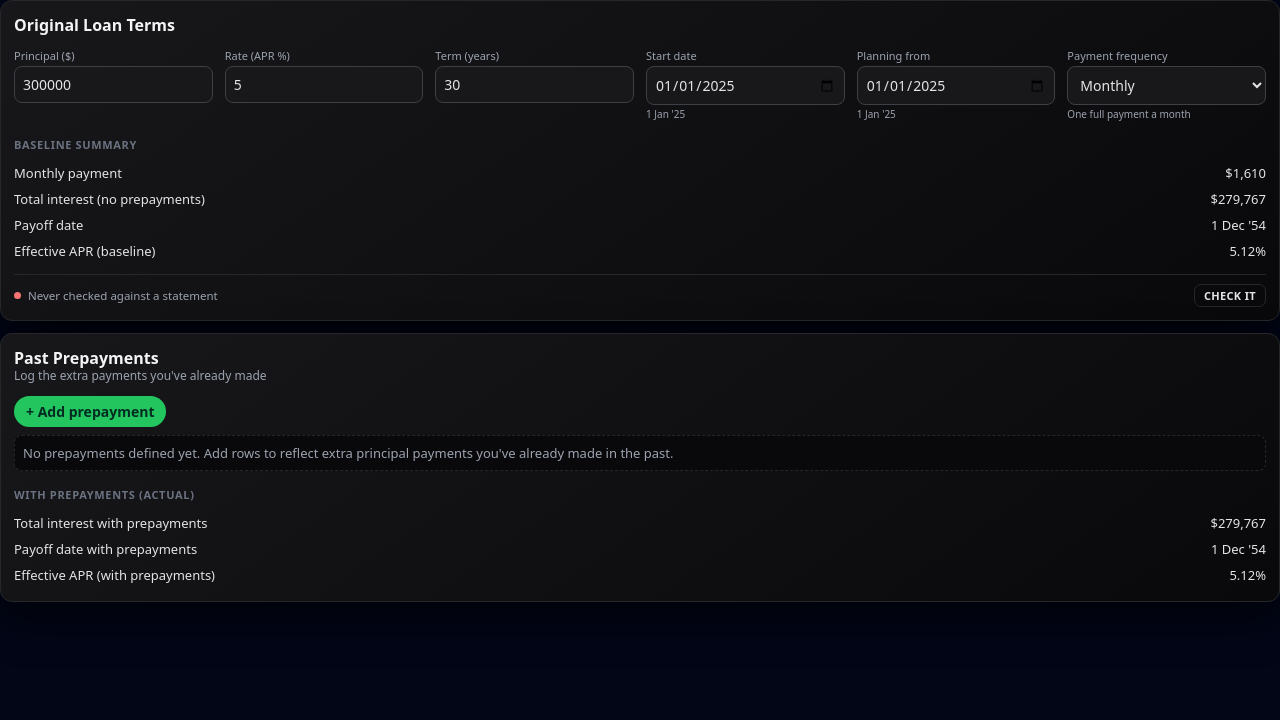
MortgageTab › visual cohesion of the prepayment controls › keeps the note field collapsed behind an Add note affordance
The width and height of the screenshot is (1280, 720).
Click the button "+ Add prepayment" at point(90, 412), box [14, 396, 166, 427]
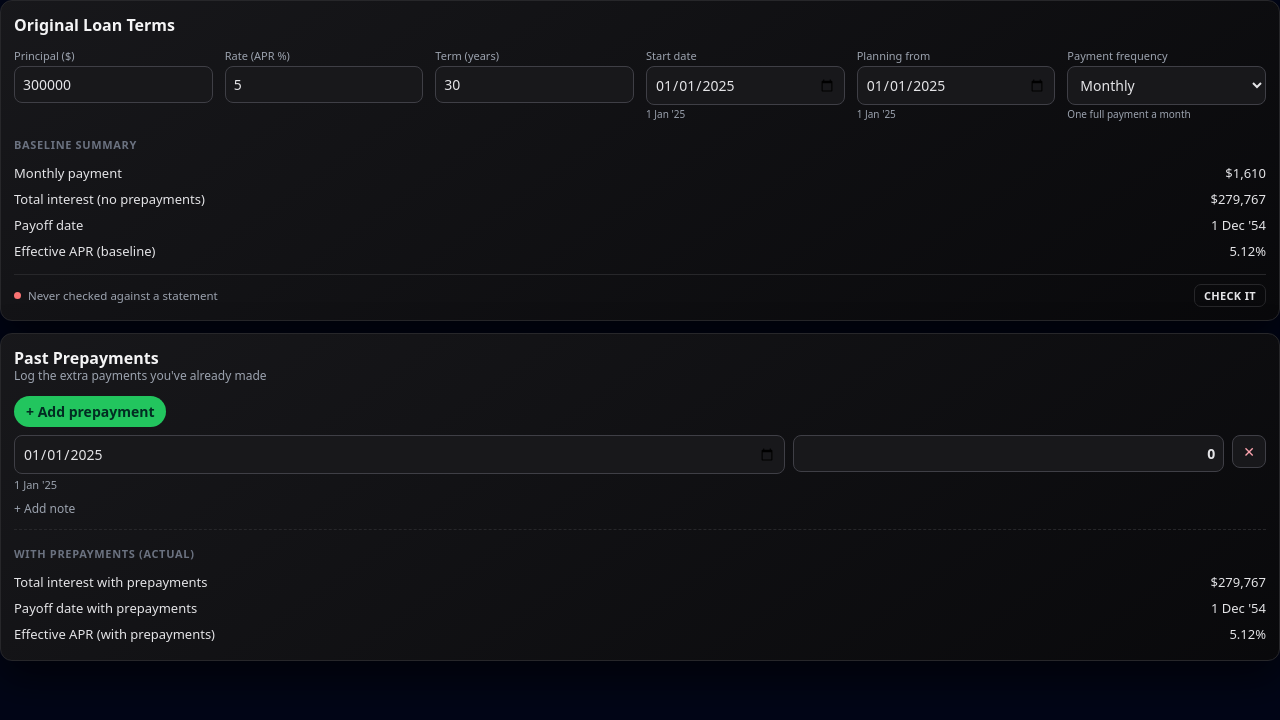
Click the button "+ Add note" at point(45, 508), box [14, 498, 75, 519]
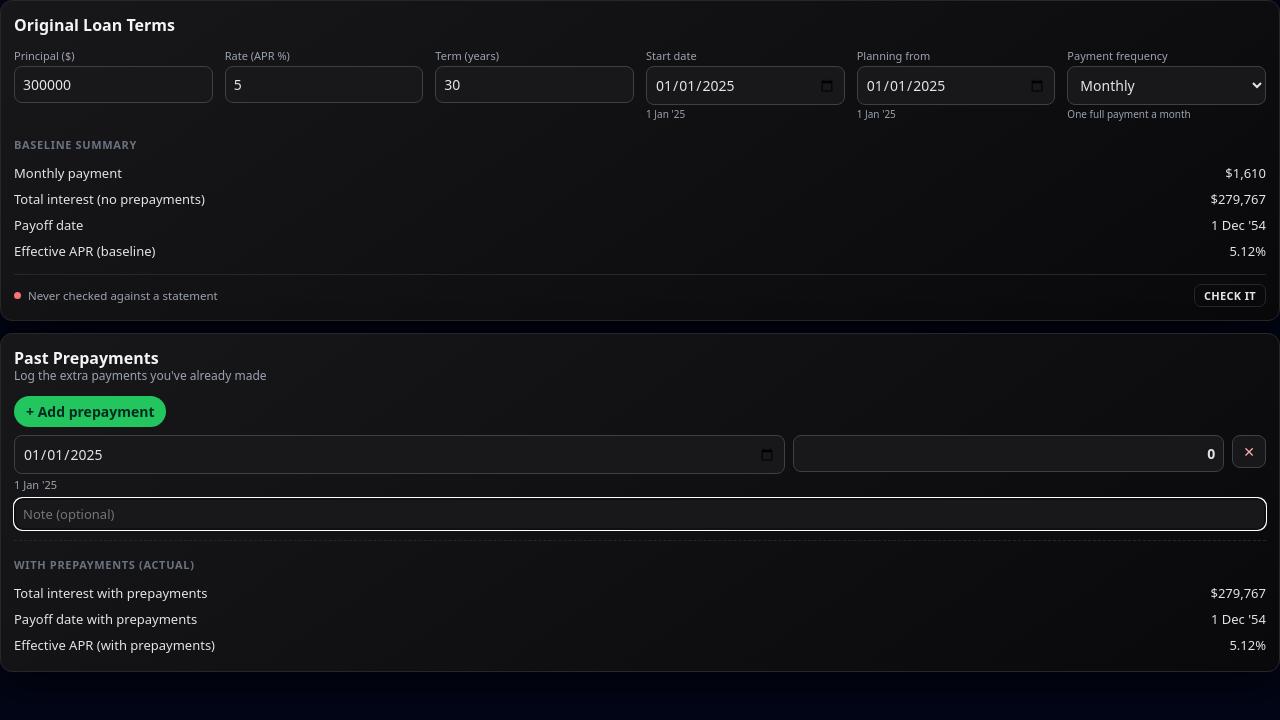
Expected: the field named "Prepayment note" is shown, [14, 498, 1266, 530]
Expected: the button "+ Add note" is gone
